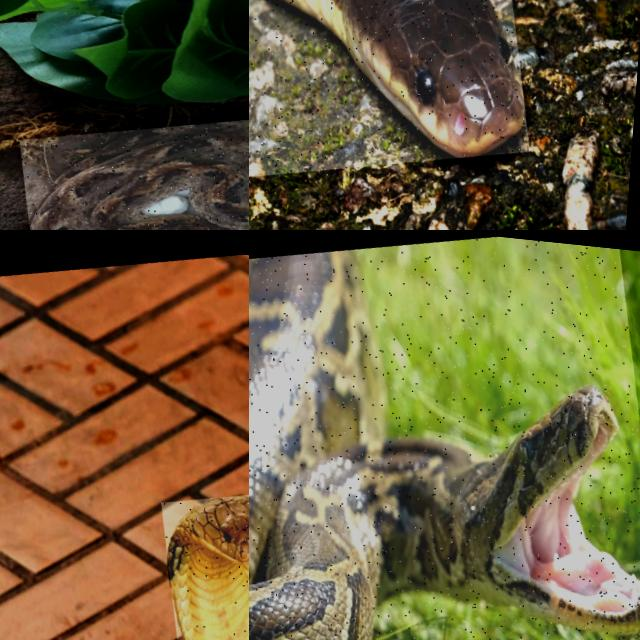Bungarus fasciatus: (285, 0, 524, 158)
Calloselasma rhodostoma: (31, 121, 248, 229)
Ophiophagus hannah: (168, 496, 248, 639)
Python bivittatus: (249, 249, 639, 639)
